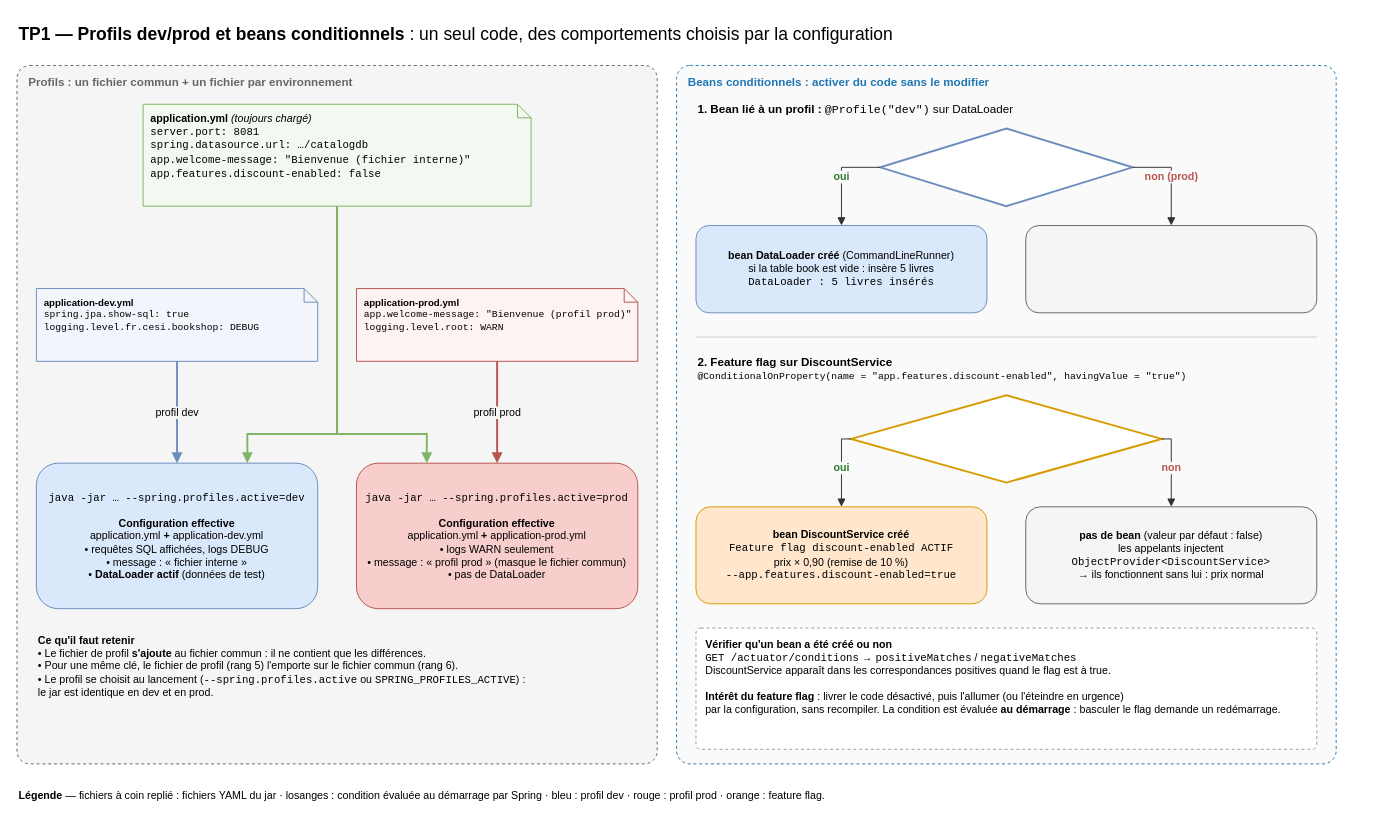
The diagram is 1392 pixels wide and 838 high, and some of its shapes have lost their labels. The shapes that lost their labels are listed below. From the top down, each one's centre as x and y in pixels, then its label:
At [1006,167]: "profil dev actif ?".
At [1171,269]: "aucun bean aucune donnée de test ne peut atterrir en production".
At [1006,438]: "app.features.discount-enabled vaut true ?".
